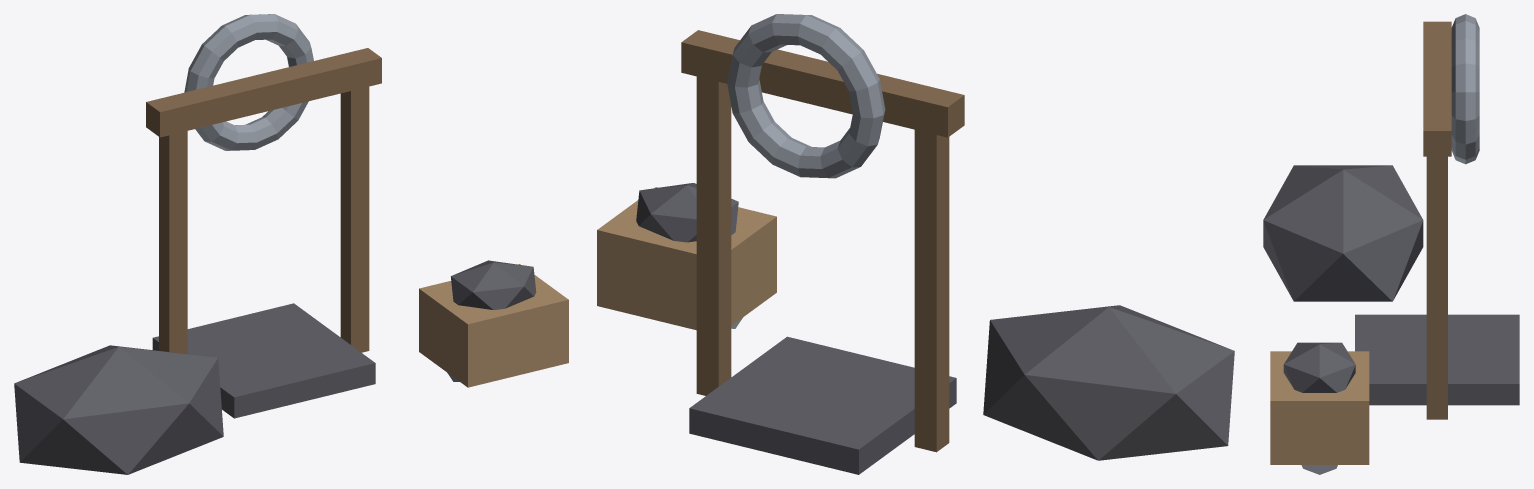
File: coal_mine.glb
3 renders of one model, left to right at view 1: azimuth 30°, elevation 25°; view 2: azimuth 150°, elevation 25°; view 3: azimuth 270°, elevation 25°, orthographic. The views are drawn at different scales.
Parts seen in each view (by area): view 1: CoalMineSpoil, CoalMineShaft, CoalMineCart, CoalMineTop, CoalMineLegR, CoalMineWheel, CoalMineLegL, CoalMineCartOre; view 2: CoalMineSpoil, CoalMineShaft, CoalMineCart, CoalMineWheel, CoalMineLegL, CoalMineLegR, CoalMineTop, CoalMineCartOre; view 3: CoalMineSpoil, CoalMineShaft, CoalMineCart, CoalMineLegR, CoalMineWheel, CoalMineTop, CoalMineCartOre.
Boxes of the visible parts, box(x1,y1,x2,y2) form: CoalMineSpoil: box(14, 345, 223, 474); CoalMineShaft: box(152, 303, 375, 418); CoalMineCart: box(419, 264, 568, 387); CoalMineTop: box(146, 48, 381, 137); CoalMineLegR: box(340, 86, 369, 352); CoalMineWheel: box(184, 14, 313, 150); CoalMineLegL: box(159, 131, 187, 353); CoalMineCartOre: box(450, 260, 536, 309); CoalMineSpoil: box(983, 305, 1234, 460); CoalMineShaft: box(689, 336, 956, 474); CoalMineCart: box(597, 187, 776, 330); CoalMineWheel: box(727, 14, 885, 178); CoalMineLegL: box(914, 130, 949, 452); CoalMineLegR: box(696, 76, 731, 395); CoalMineTop: box(681, 30, 964, 137); CoalMineCartOre: box(636, 183, 738, 242); CoalMineSpoil: box(1263, 165, 1423, 301); CoalMineShaft: box(1355, 314, 1519, 405); CoalMineCart: box(1270, 351, 1369, 464); CoalMineLegR: box(1426, 156, 1447, 419); CoalMineWheel: box(1451, 14, 1479, 164); CoalMineTop: box(1423, 21, 1451, 156); CoalMineCartOre: box(1283, 342, 1355, 392).
Size of the model in its own units: 2.54 by 1.74 by 1.09.
